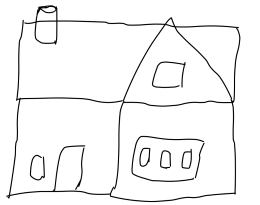chimney: (30, 1, 67, 56)
closed_window: (128, 129, 210, 185)
door: (50, 135, 95, 196)
open_window: (148, 56, 191, 92), (22, 149, 51, 183)
roof: (10, 15, 241, 108)
wall: (108, 95, 242, 204)
